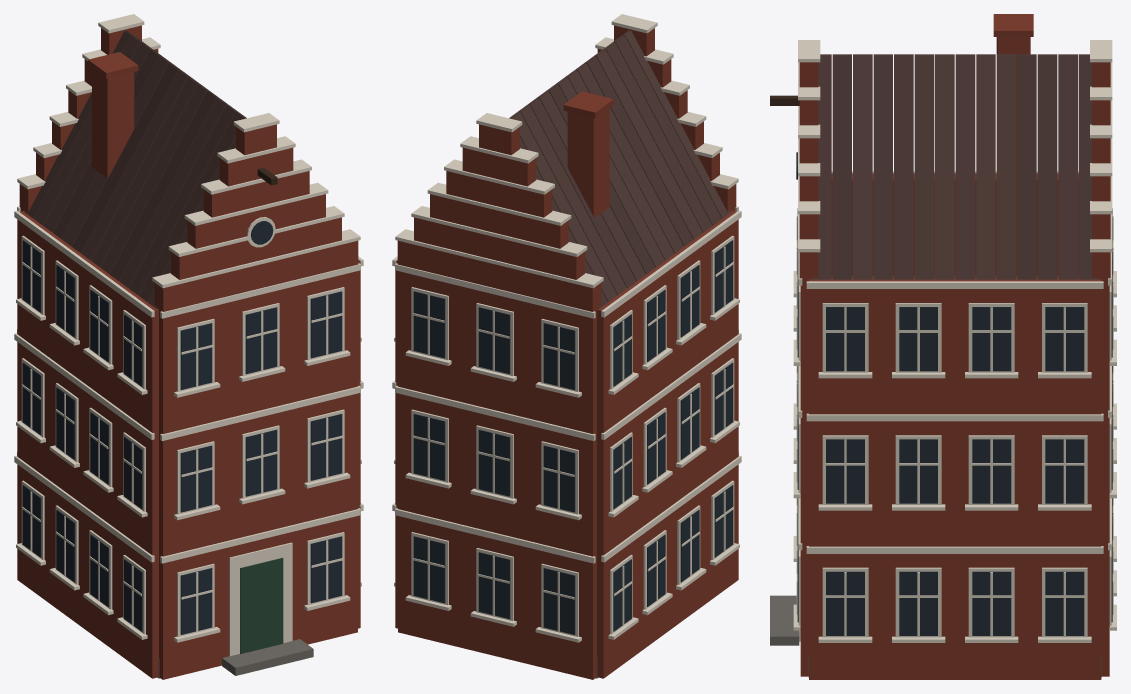
File: house_3.glb
The picture shows the model from 3 angles, left to right: view 1: azimuth 30°, elevation 25°; view 2: azimuth 150°, elevation 25°; view 3: azimuth 270°, elevation 25°; orthographic projection. The views are drawn at different scales.
Visible parts, largest first — view 1: house3_brick, house3_glass, house3_tiles, house3_stone, house3_wood; view 2: house3_brick, house3_glass, house3_tiles, house3_stone, house3_wood; view 3: house3_brick, house3_tiles, house3_glass, house3_stone, house3_wood.
Boxes of the visible parts, x1,y1,x2,y2 form: house3_brick: (17, 25, 360, 679); house3_glass: (22, 221, 342, 634); house3_tiles: (24, 30, 246, 308); house3_stone: (14, 14, 363, 678); house3_wood: (21, 167, 344, 654); house3_brick: (395, 25, 738, 679); house3_glass: (413, 240, 733, 634); house3_tiles: (509, 30, 731, 308); house3_stone: (392, 14, 741, 678); house3_wood: (411, 235, 734, 636); house3_brick: (799, 14, 1110, 679); house3_tiles: (812, 54, 1098, 279); house3_glass: (796, 152, 1112, 635); house3_stone: (770, 40, 1116, 677); house3_wood: (770, 95, 1113, 637).
Size of the model in its own units: 5.64 by 13.1 by 7.12.
